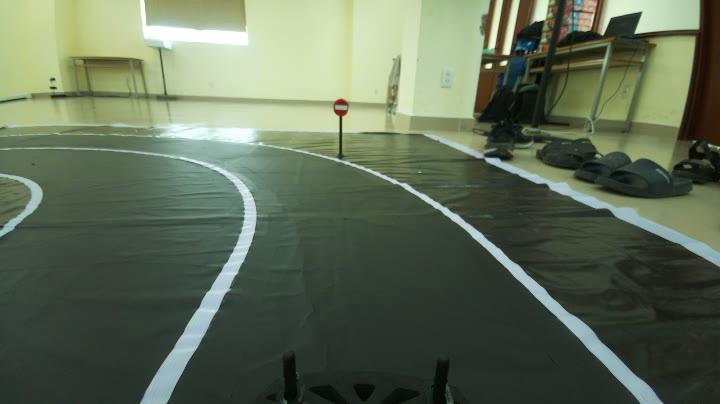no_entry: (332, 92, 350, 118)
